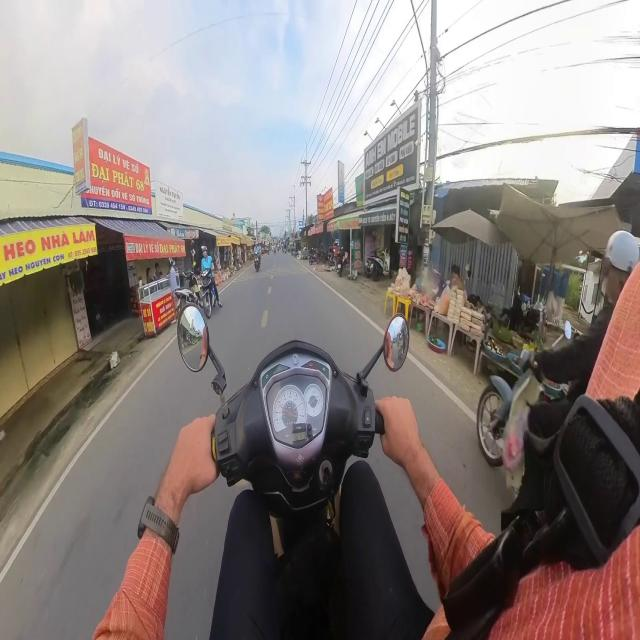motorcycle: (178, 305, 409, 637), (477, 371, 530, 466), (176, 270, 212, 318), (366, 251, 389, 281), (254, 255, 260, 271)
